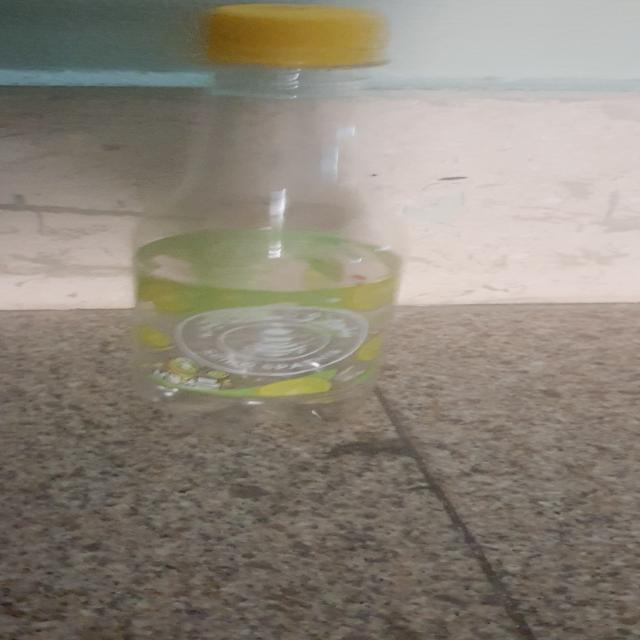plastic: (137, 7, 402, 406)
